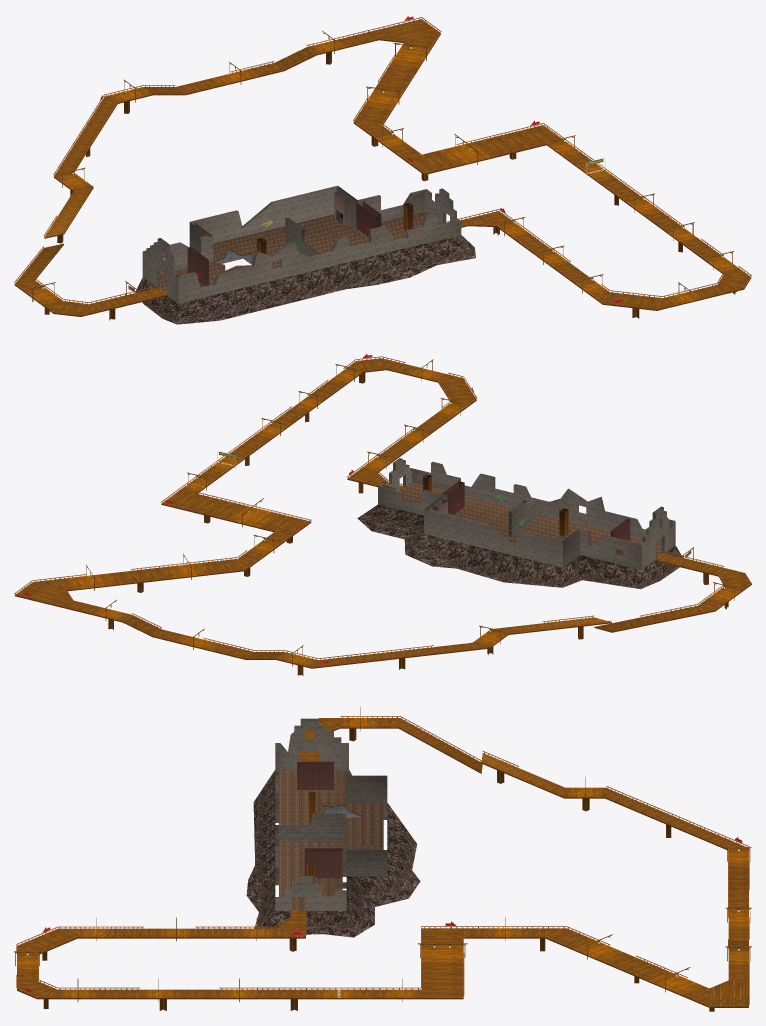
The model's file is old_hyudoro_64.glb.
The picture shows the model from 3 angles, top to bottom: view 1: azimuth 30°, elevation 25°; view 2: azimuth 150°, elevation 25°; view 3: azimuth 270°, elevation 25°; orthographic projection. The views are drawn at different scales.
Visible parts, largest first — view 1: old_hyudoro_64; view 2: old_hyudoro_64; view 3: old_hyudoro_64.
Part boxes in pixels (x1=…): old_hyudoro_64: x1=14, y1=16, x2=751, y2=324; old_hyudoro_64: x1=14, y1=354, x2=751, y2=675; old_hyudoro_64: x1=14, y1=707, x2=751, y2=1011.
Bounding box in the file's own units: 337 × 36.88 × 362.
Materials: 17 (17 with a texture image).
